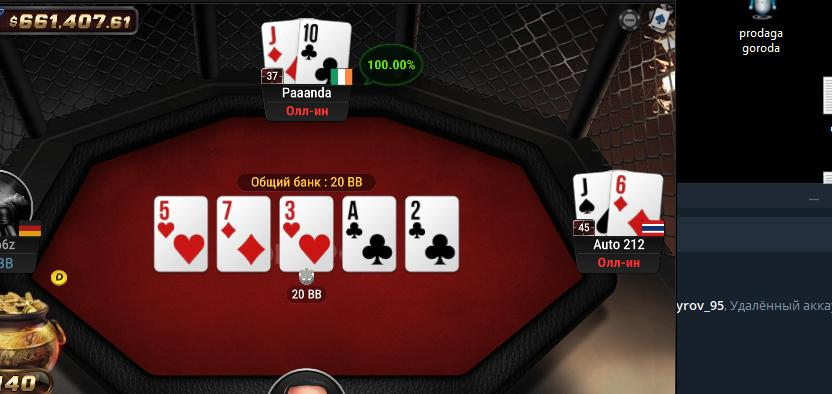10c: (298, 18, 350, 87)
2c: (405, 196, 459, 271)
3h: (281, 196, 332, 272)
5h: (155, 197, 207, 270)
6d: (610, 172, 661, 235)
7d: (218, 196, 269, 270)
Ac: (342, 197, 395, 270)
Jd: (260, 23, 299, 85)
Js: (573, 173, 610, 235)
